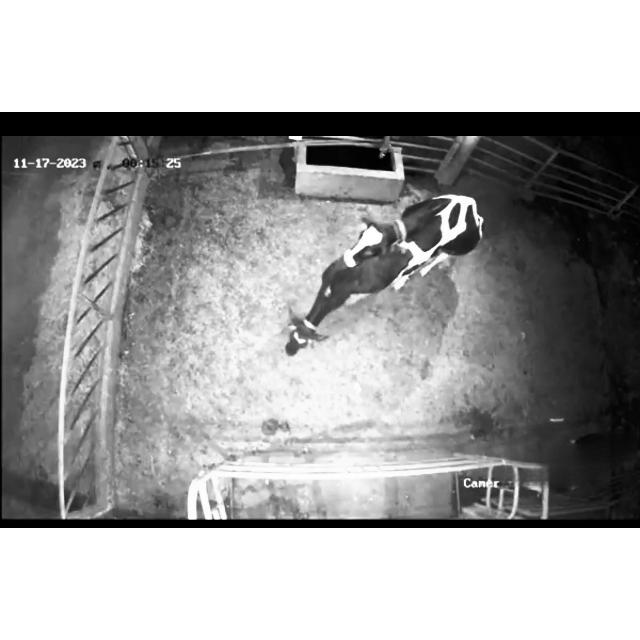ride: (338, 192, 489, 290)
stand: (280, 245, 422, 361)
